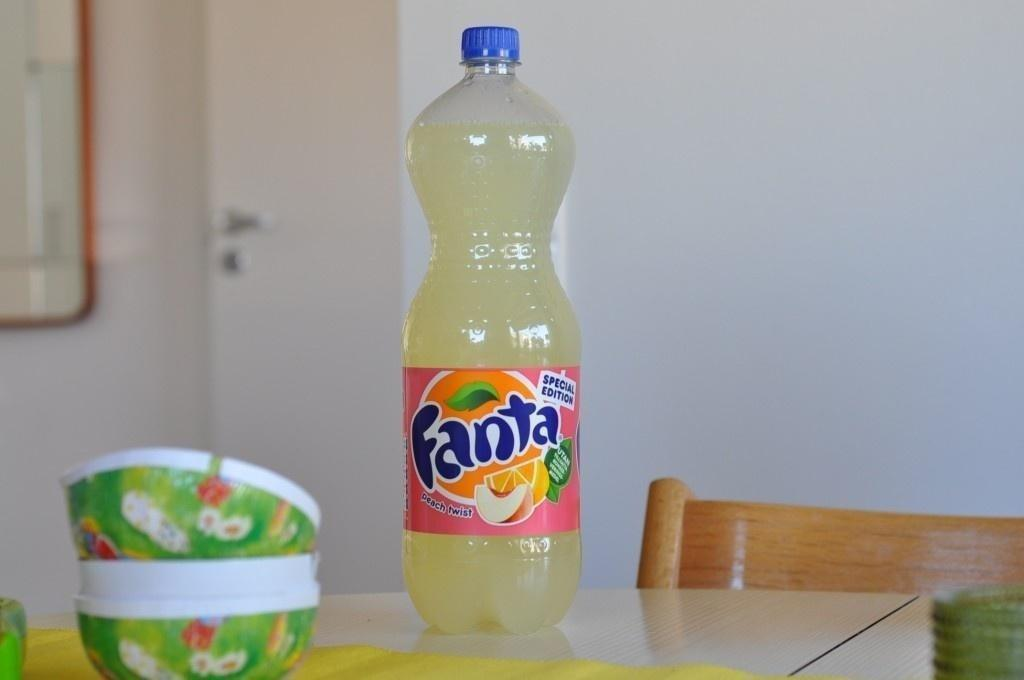bottle-plastic: (396, 22, 588, 641)
